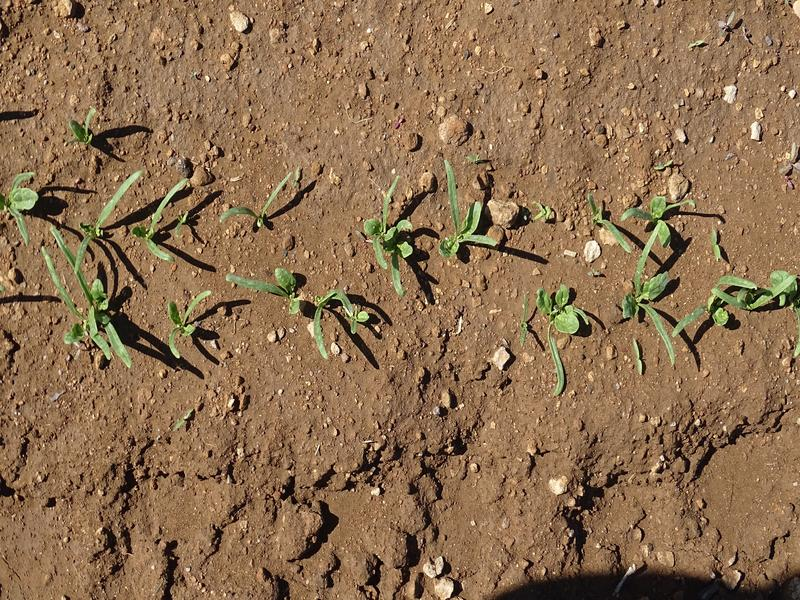Espinaca: (586, 200, 797, 358), (42, 170, 195, 371), (364, 163, 514, 281), (224, 268, 377, 357), (526, 289, 591, 408), (219, 172, 291, 224), (4, 163, 31, 239)
